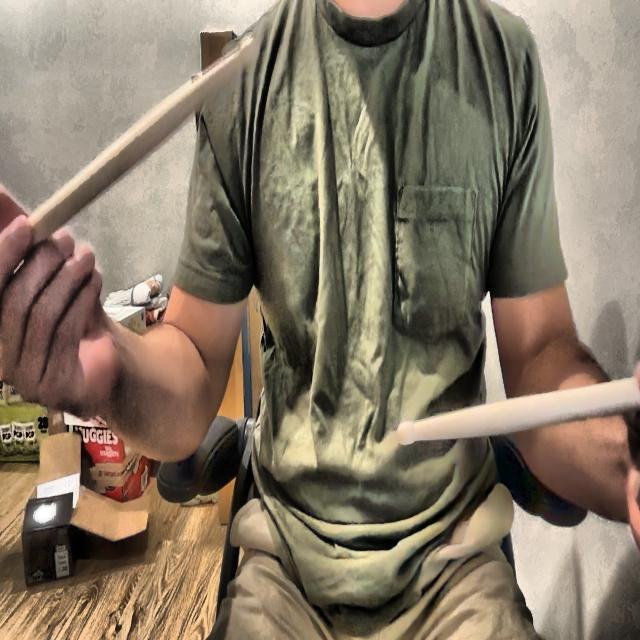Drumstick-Heads: (234, 26, 262, 70), (396, 409, 416, 450)
